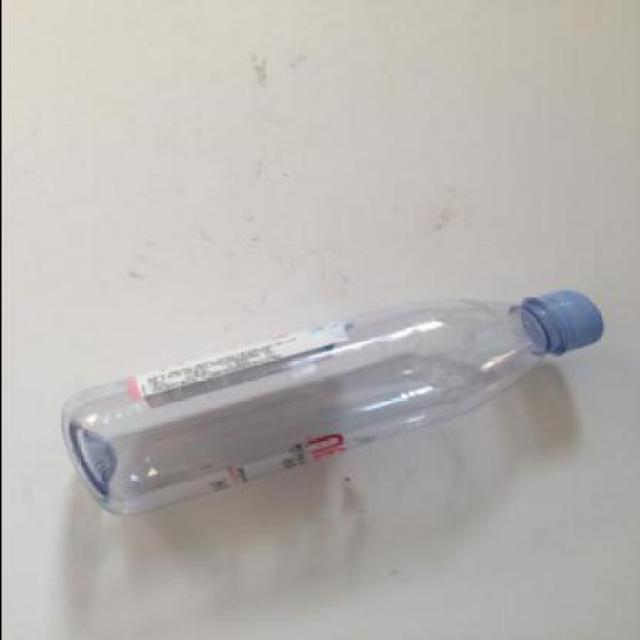PLASTIC: (59, 288, 602, 515), (516, 289, 602, 354)
